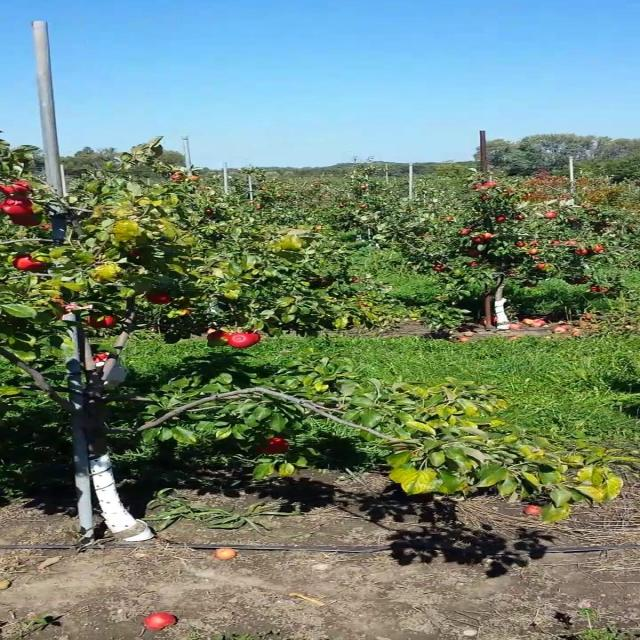apple: (255, 440, 292, 456), (13, 256, 46, 272), (6, 200, 36, 216), (6, 180, 36, 196), (84, 316, 117, 328), (13, 216, 43, 228), (205, 332, 231, 343), (49, 296, 68, 311), (148, 292, 171, 304), (49, 300, 68, 314), (234, 336, 254, 348), (248, 332, 263, 343), (99, 356, 108, 363)
